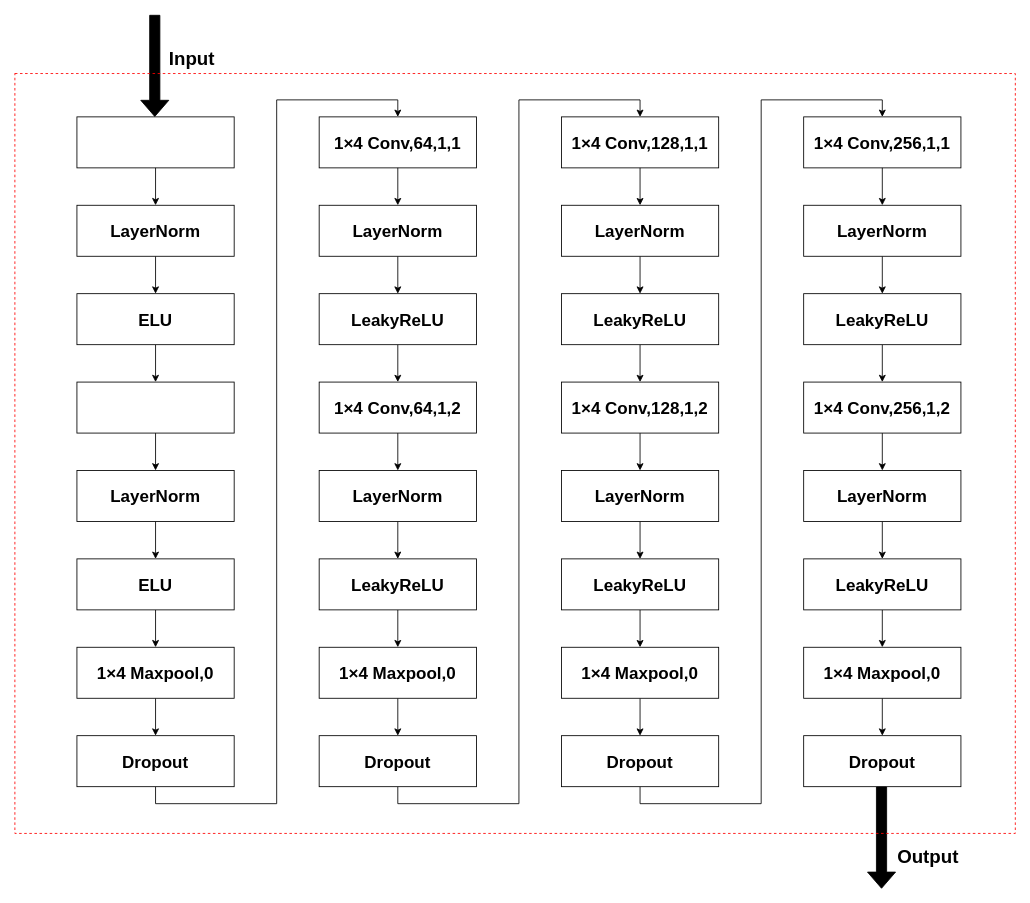
The diagram is 1030 pixels wide and 903 high, and some of its shapes have lost their labels. Each missing label, with the centre of its shape:
1 × 4 Conv,32,1,1: pixel 155 142
1 × 4 Conv,32,1,2: pixel 155 407
